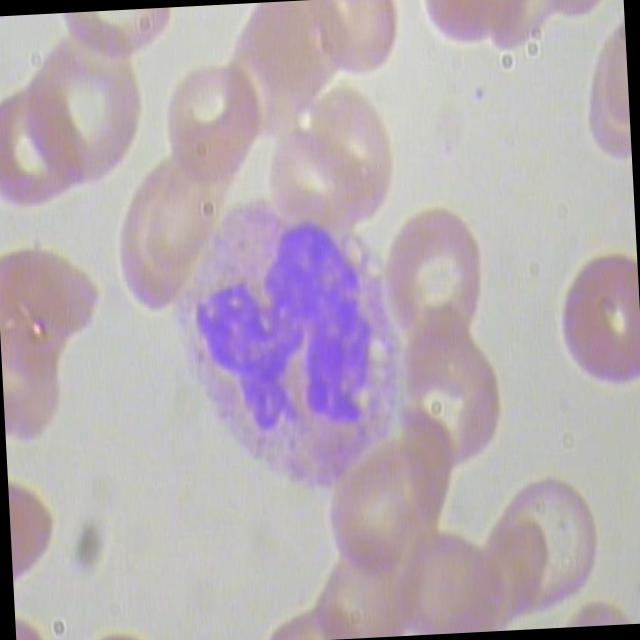RBC: (22, 26, 154, 199), (384, 198, 496, 362), (549, 247, 640, 407)
WBC: (165, 189, 418, 513)
